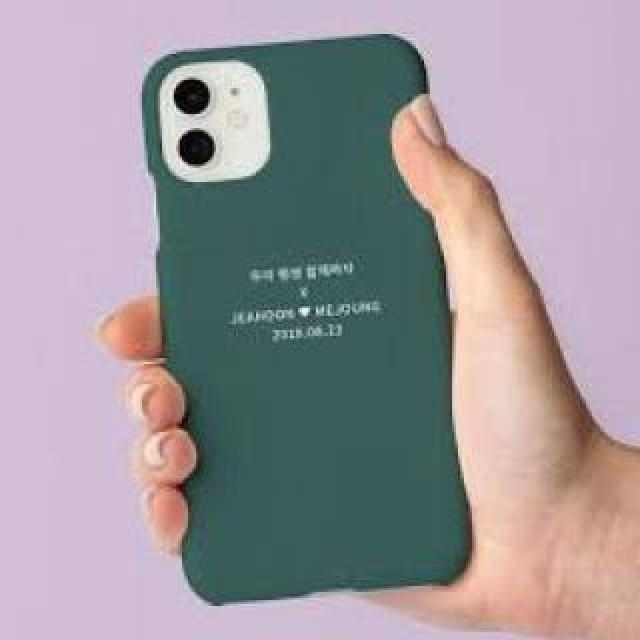smart phone: (126, 13, 492, 577)
